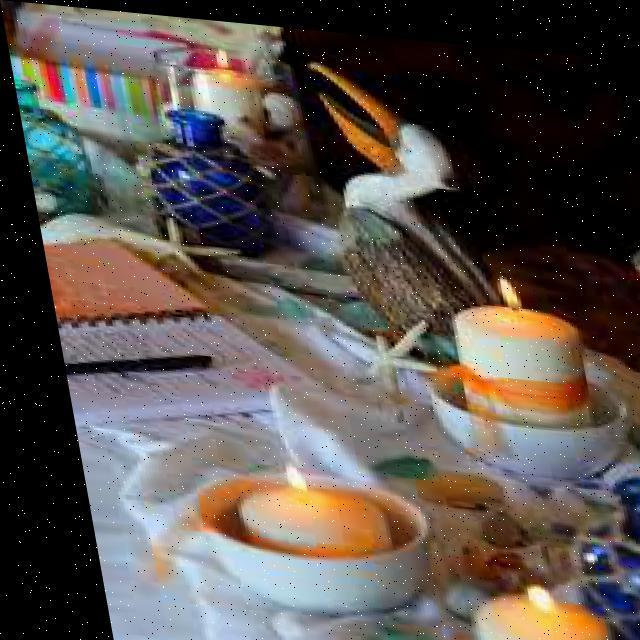Fire: (462, 256, 528, 310), (257, 450, 309, 498), (488, 572, 550, 612)
